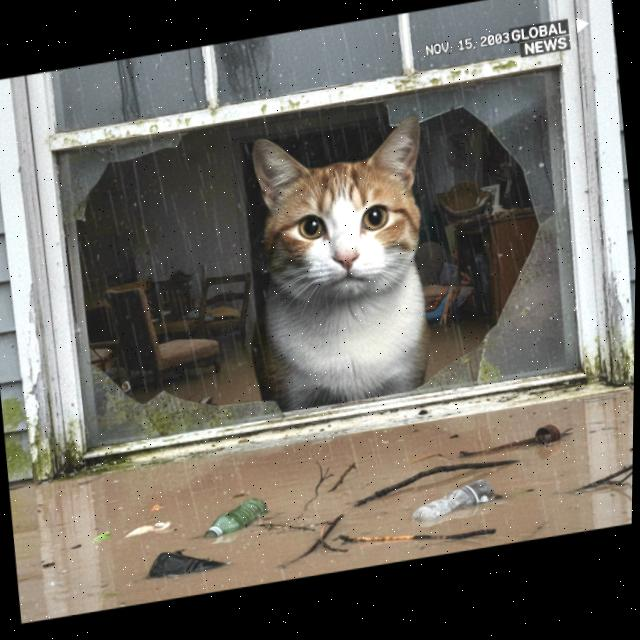cat: (231, 104, 460, 430)
